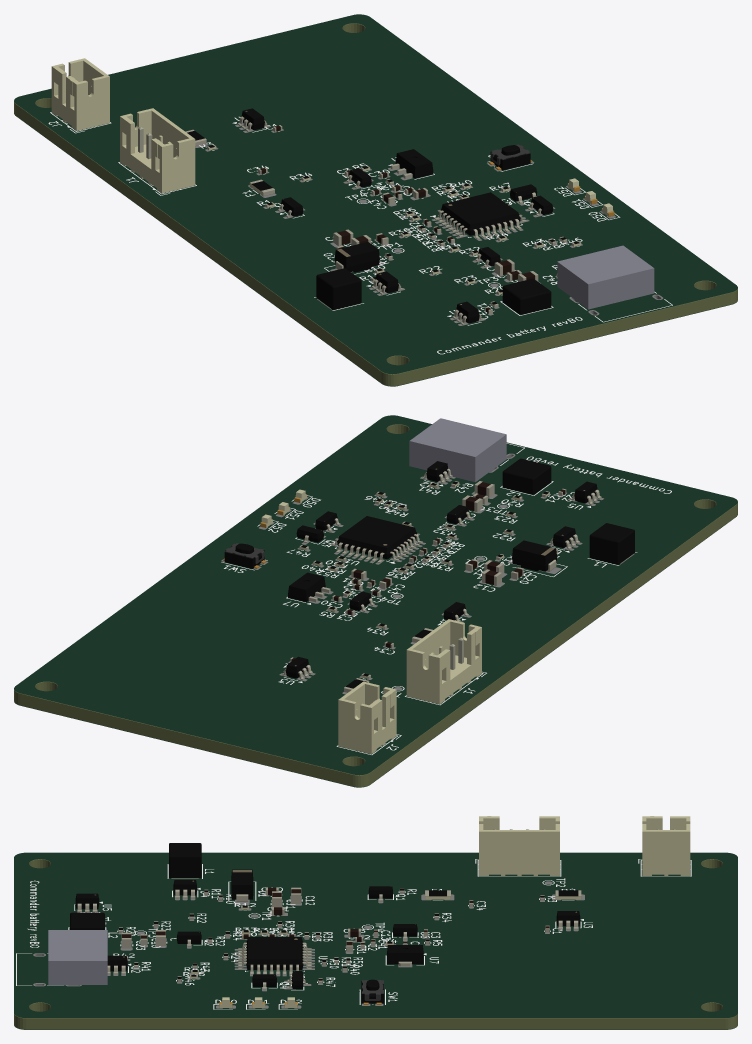
The model's file is commander_battery.dae.
3 renders of one model, top to bottom at view 1: azimuth 30°, elevation 25°; view 2: azimuth 150°, elevation 25°; view 3: azimuth 270°, elevation 25°, orthographic. The views are drawn at different scales.
Visible parts, largest first — view 1: part_02, part_06, part_01, part_14, part_10, part_16, part_12, part_08, part_04, part_15, part_09, part_00; view 2: part_02, part_01, part_06, part_14, part_16, part_10, part_12, part_08, part_04, part_09, part_15, part_00; view 3: part_02, part_06, part_01, part_14, part_16, part_12, part_10, part_08, part_15, part_00, part_04, part_09.
Part boxes in pixels (x1,y1,x2,y2): part_02: (14, 14, 737, 386); part_06: (14, 23, 737, 386); part_01: (241, 108, 553, 323); part_14: (51, 58, 195, 193); part_10: (557, 245, 654, 309); part_16: (48, 112, 672, 354); part_12: (185, 116, 581, 324); part_08: (195, 123, 663, 320); part_04: (260, 125, 534, 312); part_15: (209, 146, 613, 306); part_09: (263, 177, 557, 325); part_00: (187, 130, 579, 304); part_02: (14, 415, 737, 787); part_01: (224, 458, 634, 678); part_06: (14, 424, 737, 787); part_14: (338, 619, 481, 754); part_16: (221, 443, 671, 754); part_10: (409, 418, 506, 482); part_12: (282, 468, 634, 692); part_08: (221, 453, 595, 694); part_04: (291, 482, 565, 660); part_09: (279, 475, 634, 677); part_15: (261, 482, 549, 682); part_00: (301, 481, 548, 688); part_02: (14, 852, 737, 1029); part_06: (14, 859, 737, 1029); part_01: (70, 843, 580, 1003); part_14: (479, 816, 690, 875); part_16: (16, 859, 691, 1009); part_12: (77, 878, 581, 989); part_10: (48, 930, 107, 984); part_08: (33, 878, 584, 1008); part_15: (127, 896, 580, 1007); part_00: (119, 888, 578, 980); part_04: (122, 887, 549, 945); part_09: (77, 890, 578, 976).
Size of the model in its own units: 48 by 88.8 by 9.4.
